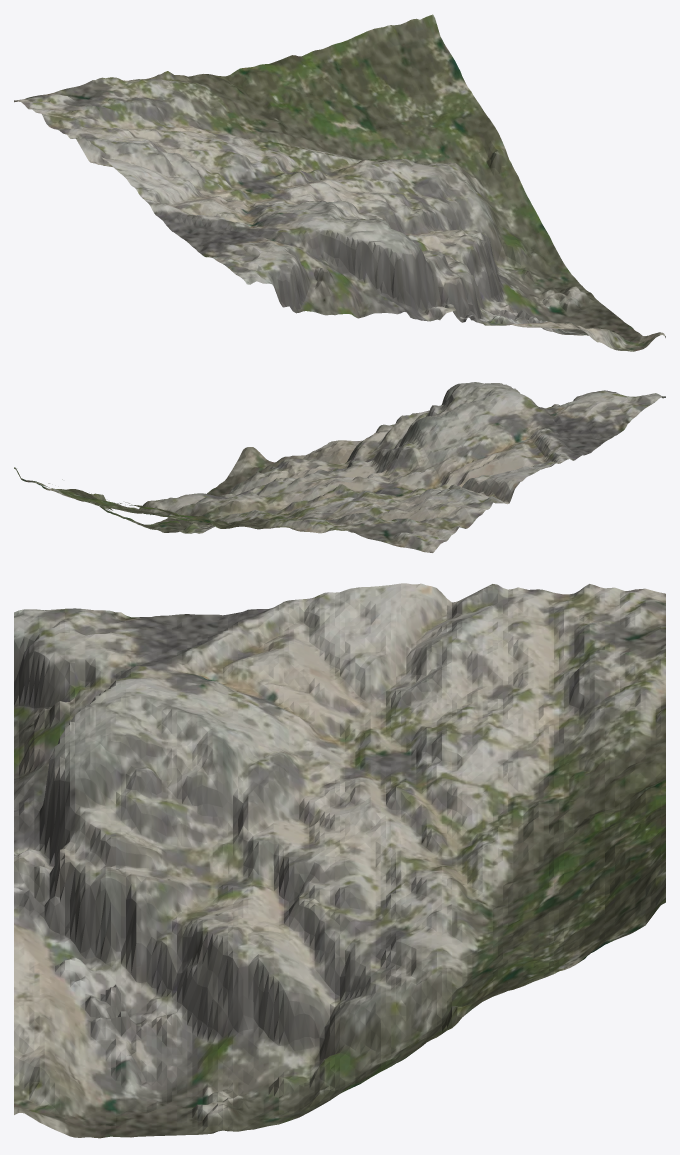
3 renders of one model, top to bottom at view 1: azimuth 30°, elevation 25°; view 2: azimuth 150°, elevation 25°; view 3: azimuth 270°, elevation 25°, orthographic. The views are drawn at different scales.
Size of the model in its own units: 250 by 111 by 241.
Materials: 1 (1 with a texture image).
